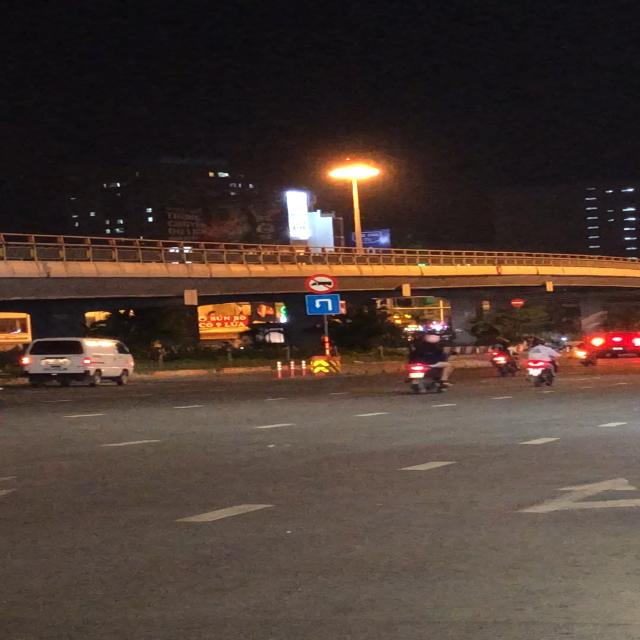Bien bao cam xe so-mi ro-mooc: (304, 273, 338, 294)
